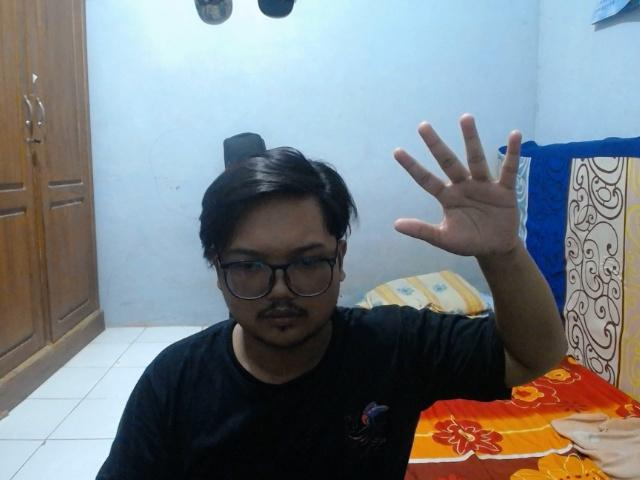Release: (390, 109, 528, 260)
